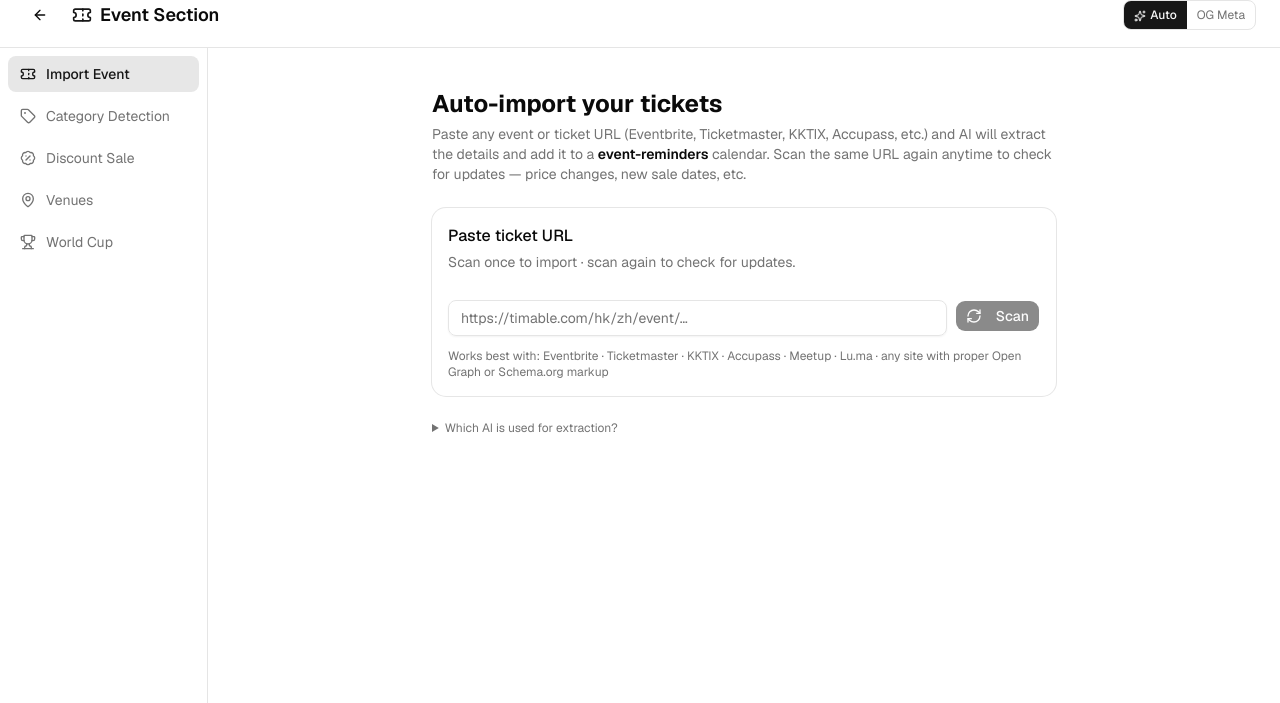
Scenario: TicketSection — venue seat-map hint › updates the review-card badge live as the user edits the Venue textbox
Type "https://example.com/event/1" into the field with placeholder "https://timable.com/hk/zh/event/…" at (697, 318), box [448,300,947,336]
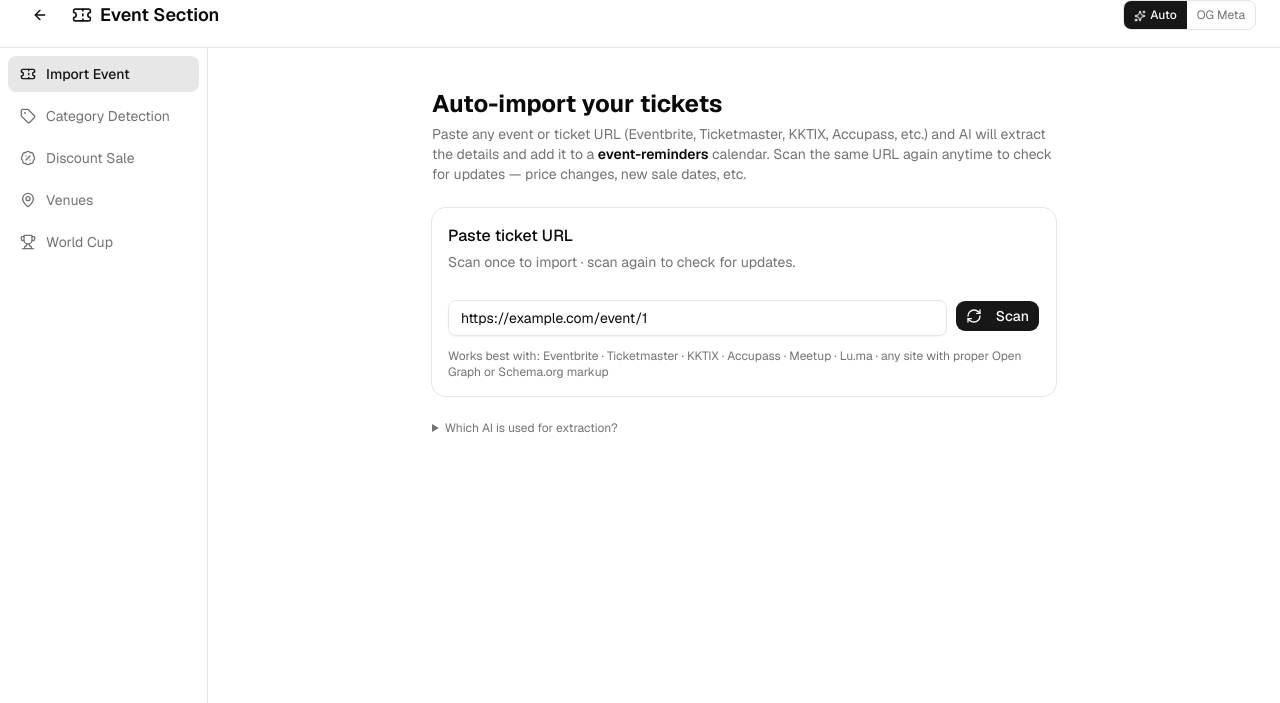
Click the button "Scan" at (997, 316), box [955,300,1040,332]
(page scrolled)
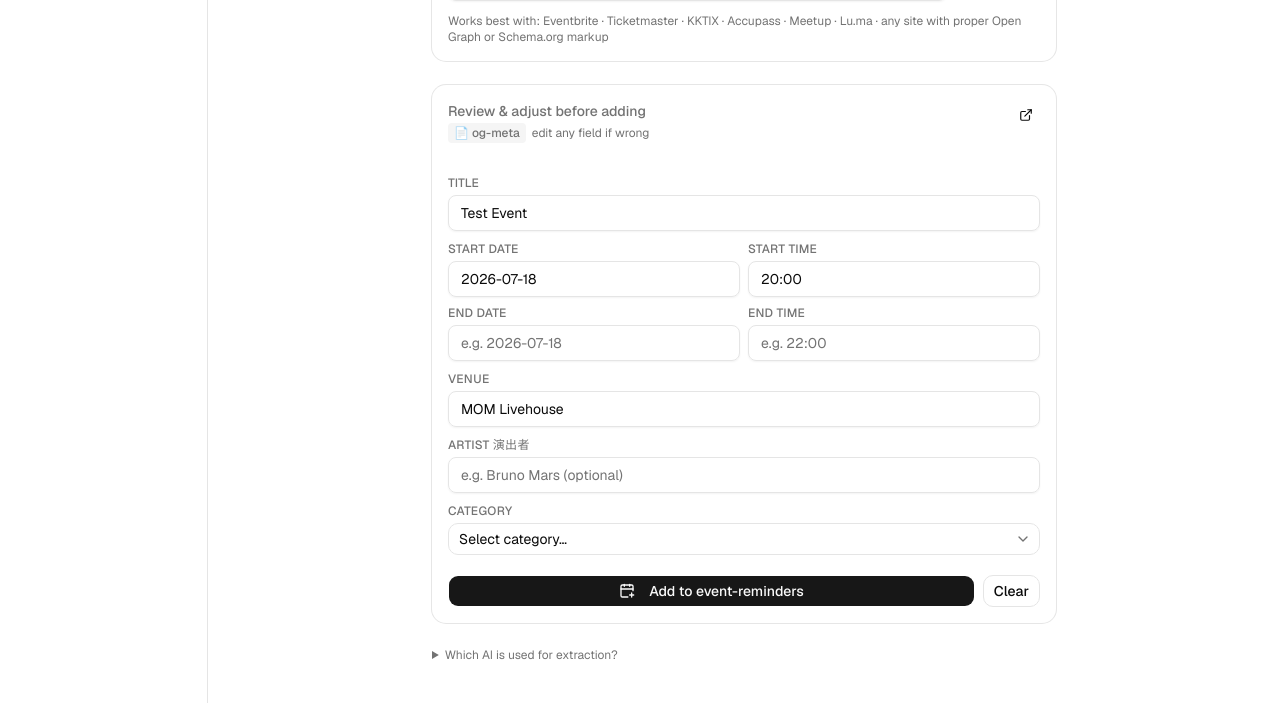
Check: the text "seat map available" is not shown
Check: the text "Review & adjust before adding" is shown, box [448,101,650,121]
Replace the text in the 5th field with placeholder "Venue name" with "啟德體育園主場館" at (744, 409), box [448,391,1040,427]
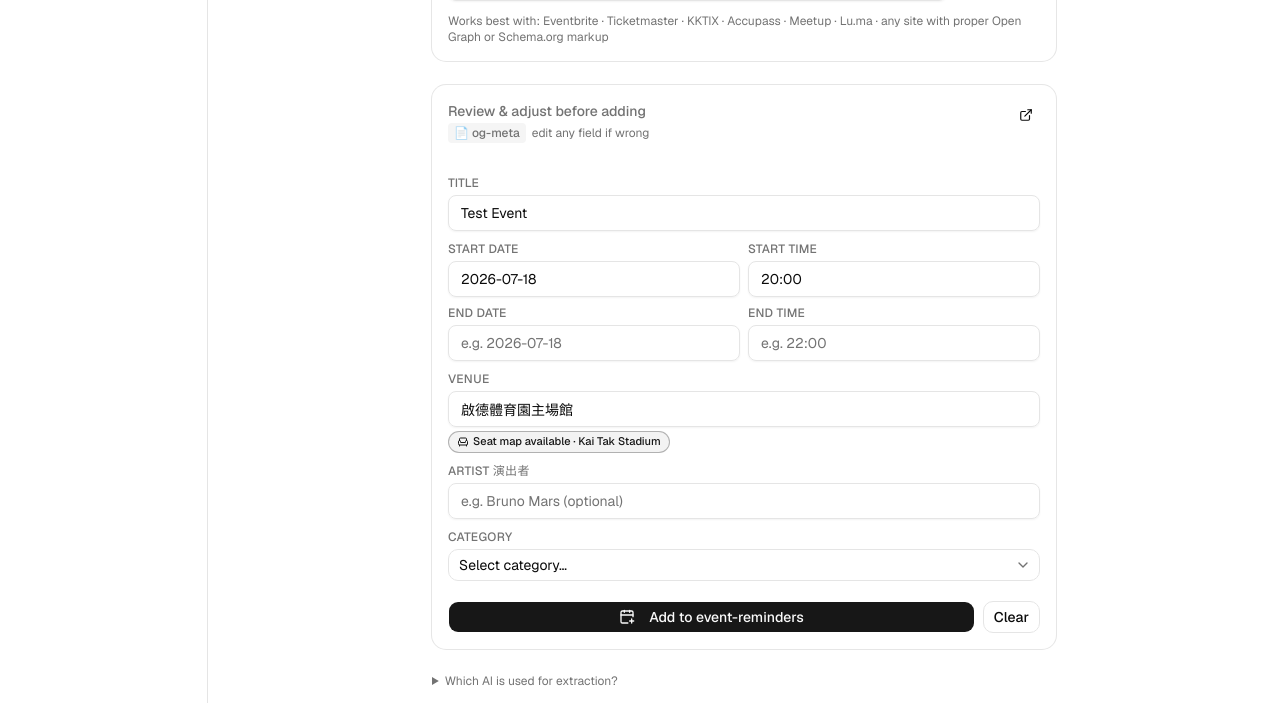
Check: the button "Seat map available · Kai Tak Stadium" is shown, box [448,431,670,453]
Replace the text in the 5th field with placeholder "Venue name" with "MOM Livehouse" at (744, 409), box [448,391,1040,427]
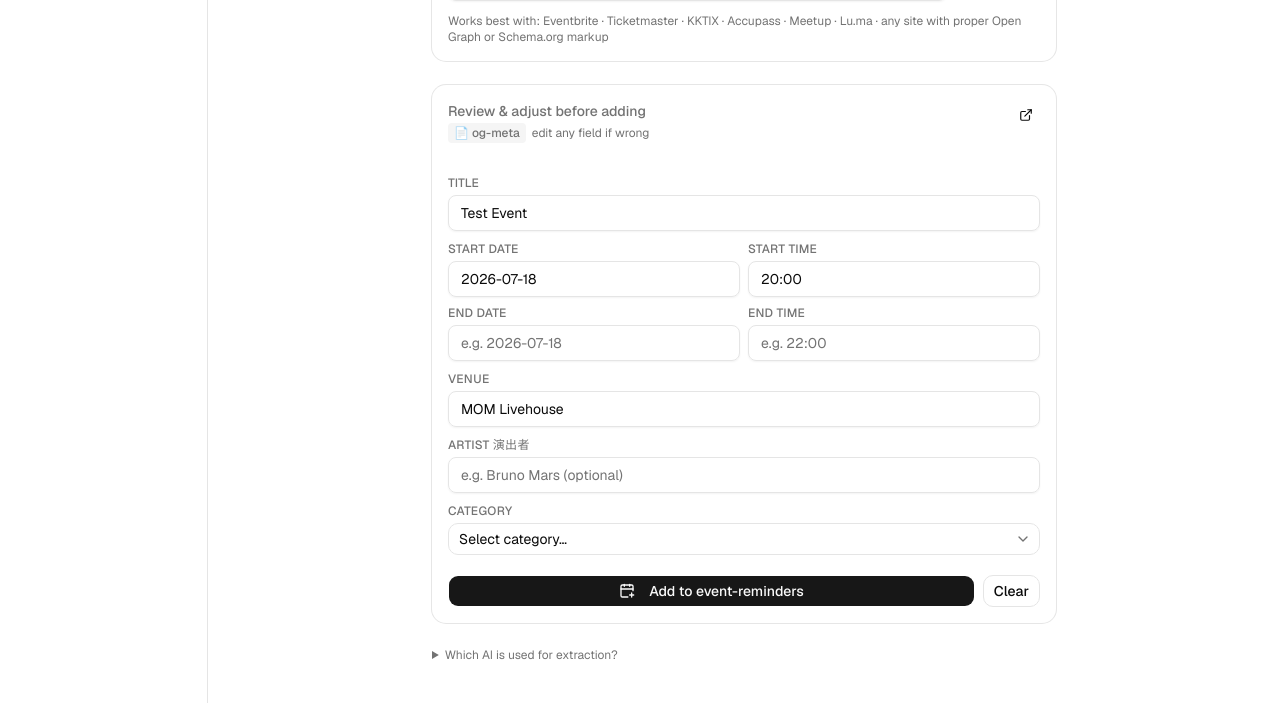
Check: the button "Seat map available" is gone
